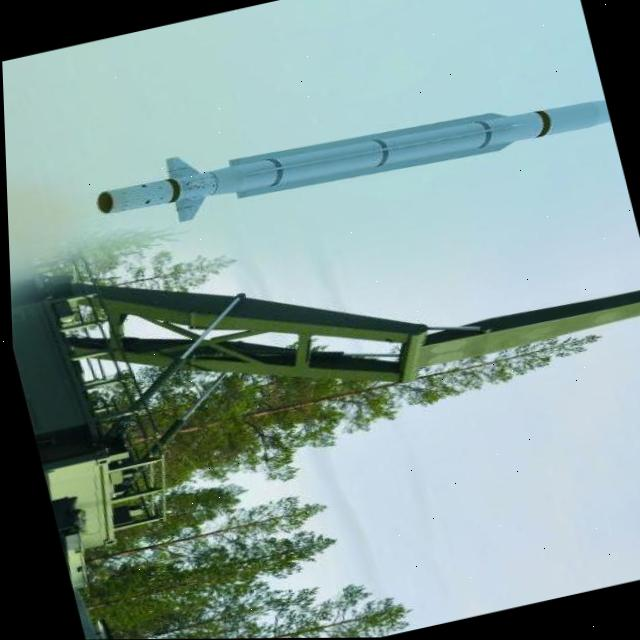missile: (89, 60, 616, 247)
